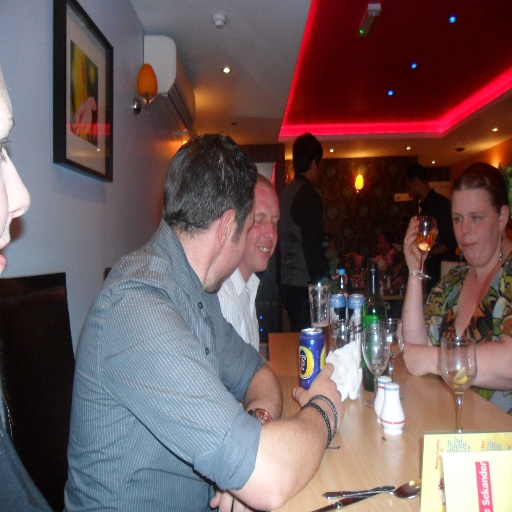hand: (290, 360, 346, 432), (407, 216, 444, 279), (206, 486, 252, 511), (401, 342, 432, 379)
